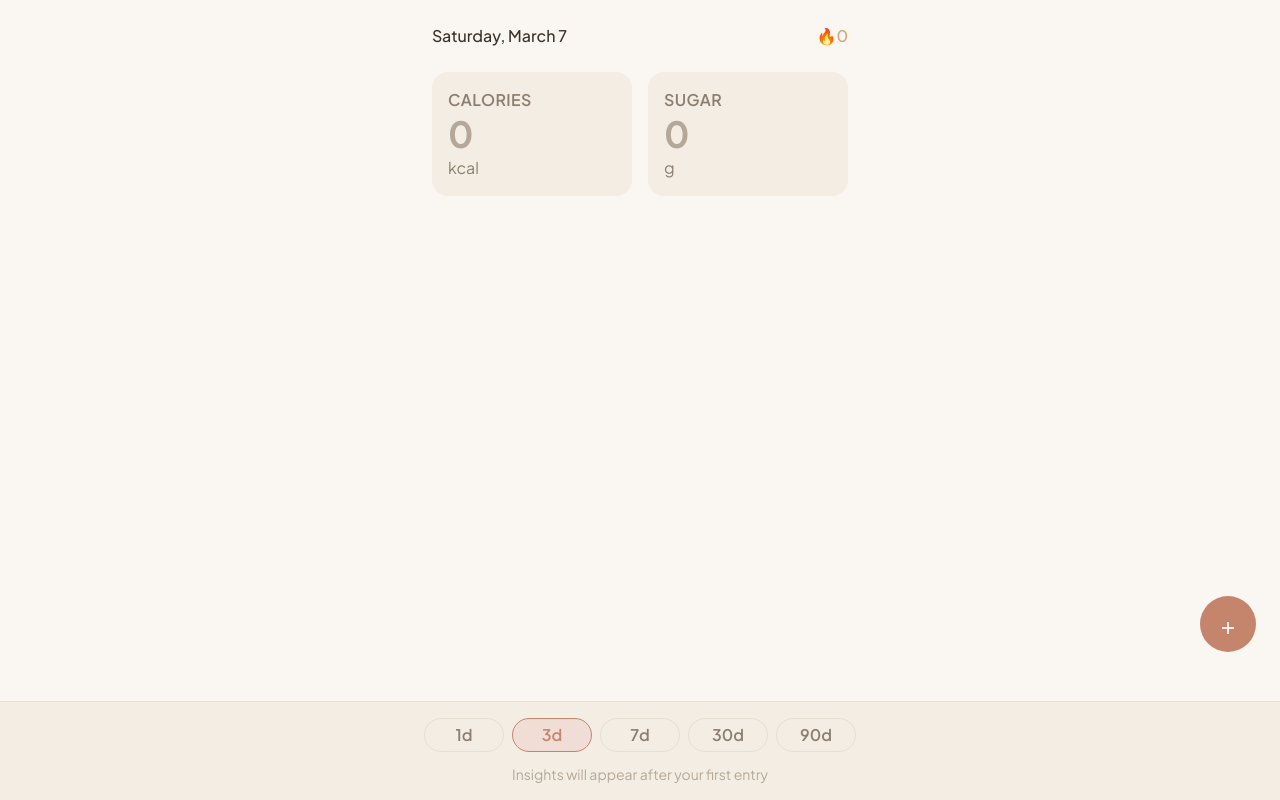
Test case: App › clicking the FAB opens the EntrySheet dialog
Click the button named "Add entry". click: (1228, 624)
box: [1200,596,1256,652]
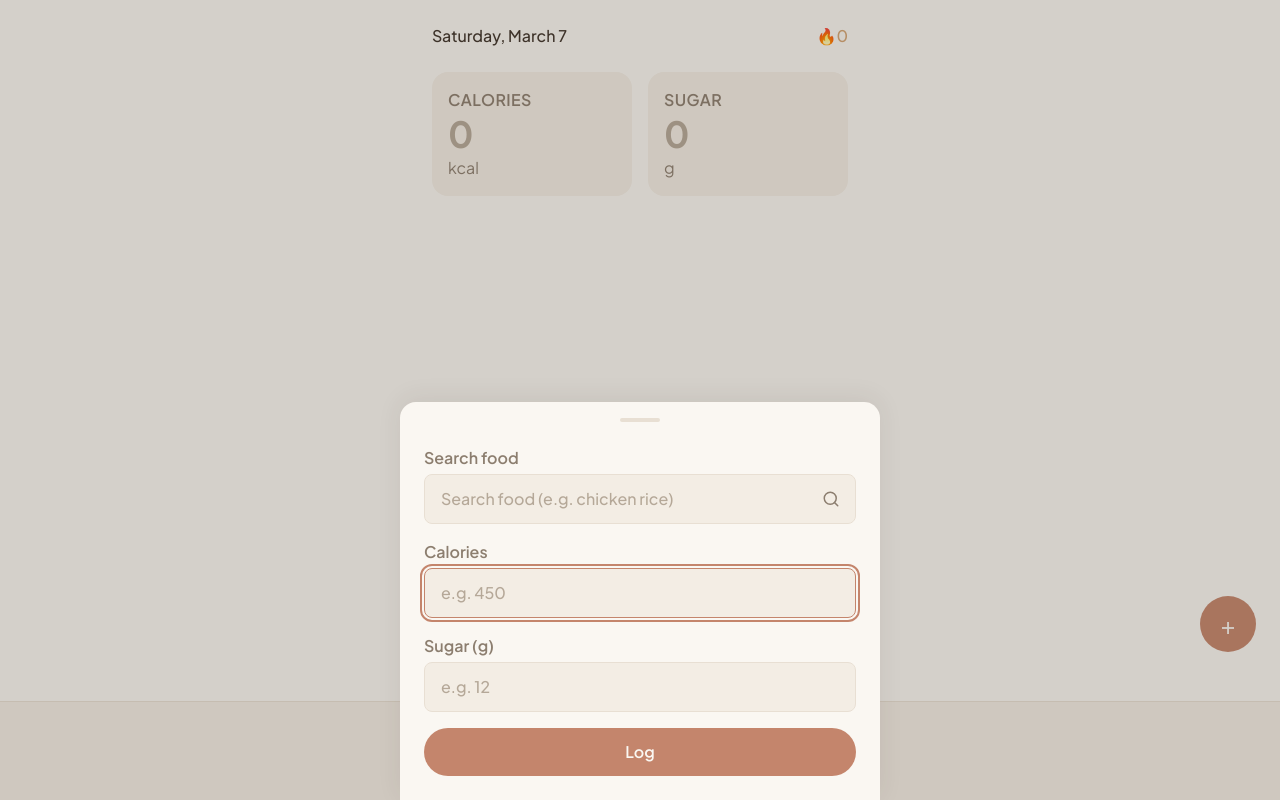
Check: the dialog is shown
